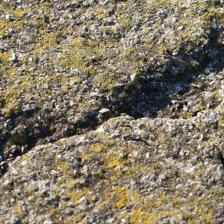Crack: (106, 33, 223, 134), (2, 100, 83, 181)
